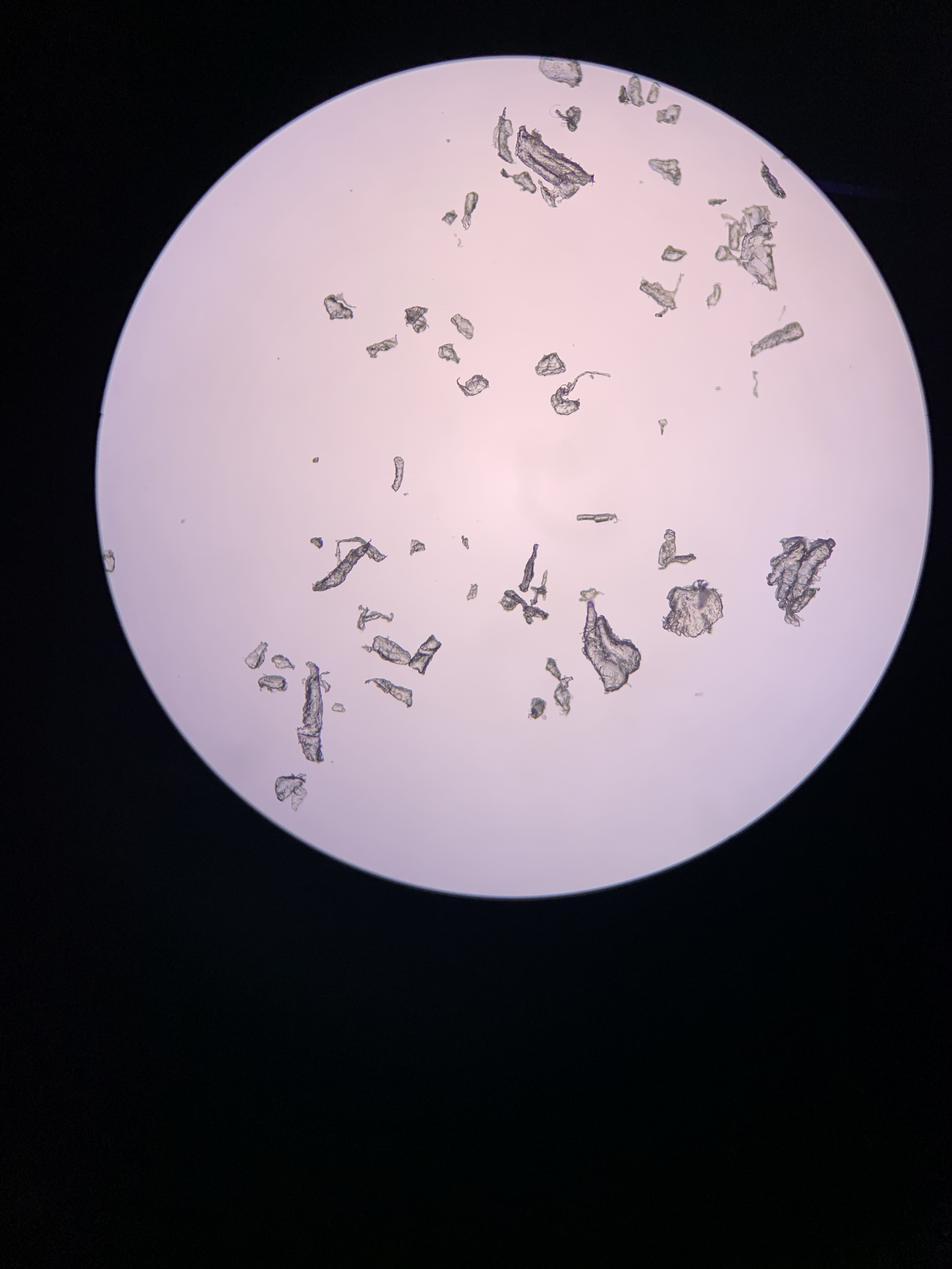microplastic: (48, 60, 355, 280), (44, 62, 96, 109)
